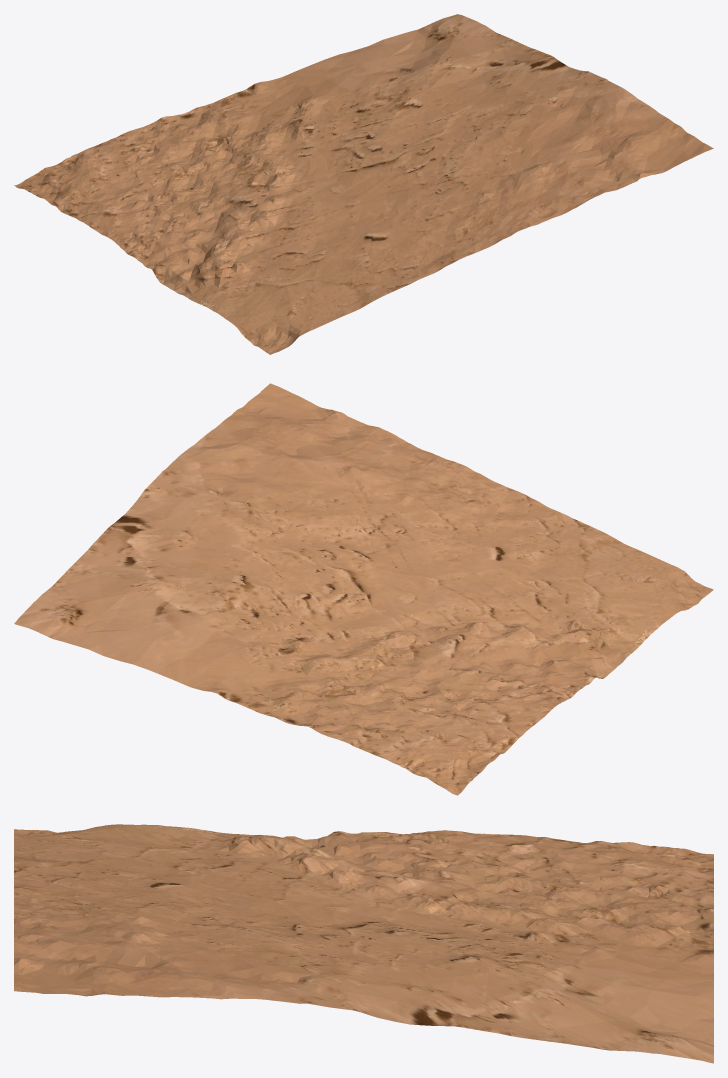
The picture shows the model from 3 angles, top to bottom: view 1: azimuth 30°, elevation 25°; view 2: azimuth 150°, elevation 25°; view 3: azimuth 270°, elevation 25°; orthographic projection. The views are drawn at different scales.
Size of the model in its own units: 1.04 by 0.2621 by 1.04.
3 materials, 3 textured.
